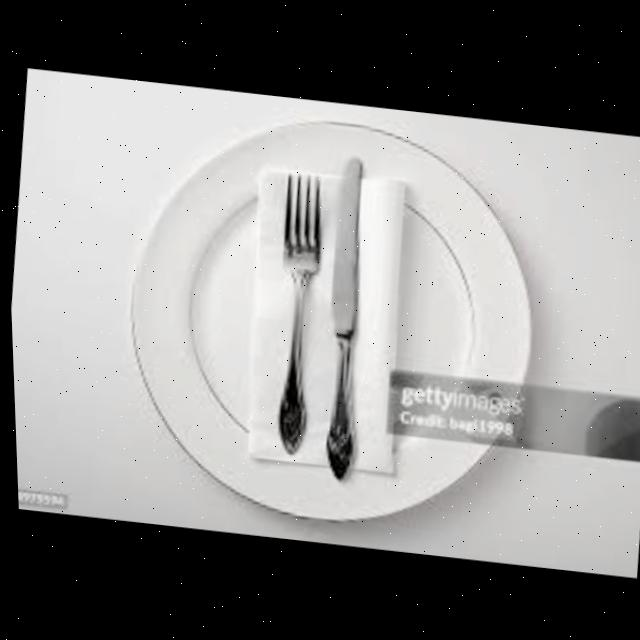knife: (304, 152, 380, 479)
